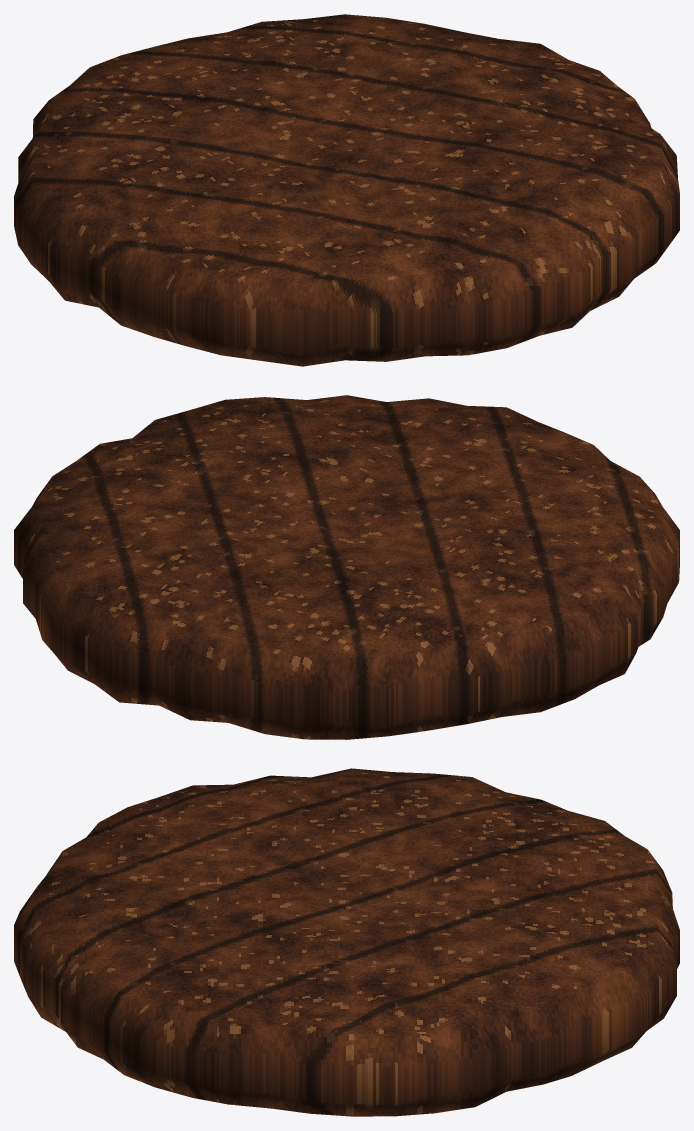
The model's file is burger_patty_cooked.glb.
3 renders of one model, top to bottom at view 1: azimuth 30°, elevation 25°; view 2: azimuth 150°, elevation 25°; view 3: azimuth 270°, elevation 25°, orthographic.
Parts seen in each view (by area): view 1: BurgerPatty_cooked; view 2: BurgerPatty_cooked; view 3: BurgerPatty_cooked.
Boxes of the visible parts, x1,y1,x2,y2 form: BurgerPatty_cooked: (14, 14, 679, 366); BurgerPatty_cooked: (14, 395, 679, 739); BurgerPatty_cooked: (14, 768, 679, 1116).
Size of the model in its own units: 0.1257 by 0.0222 by 0.1249.
1 material, 1 textured.
